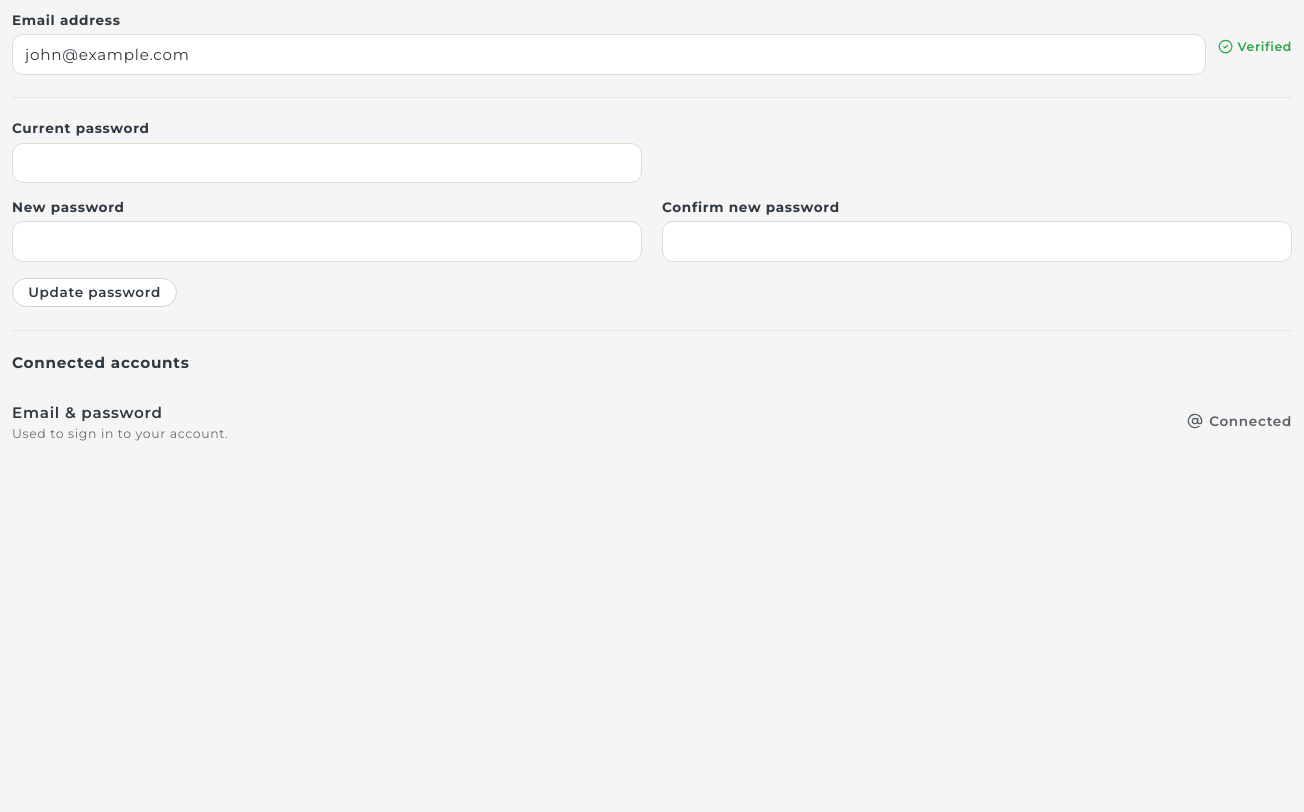
Test case: Account & Security — email change (password account) › reveals the reauth field + button only after the email is edited
The image size is (1304, 812).
Expected: the text "Update email" is not shown
Replace the text in the field labelled "Email address" with "new@example.com" at {"x": 609, "y": 54}, box [12,34,1206,75]
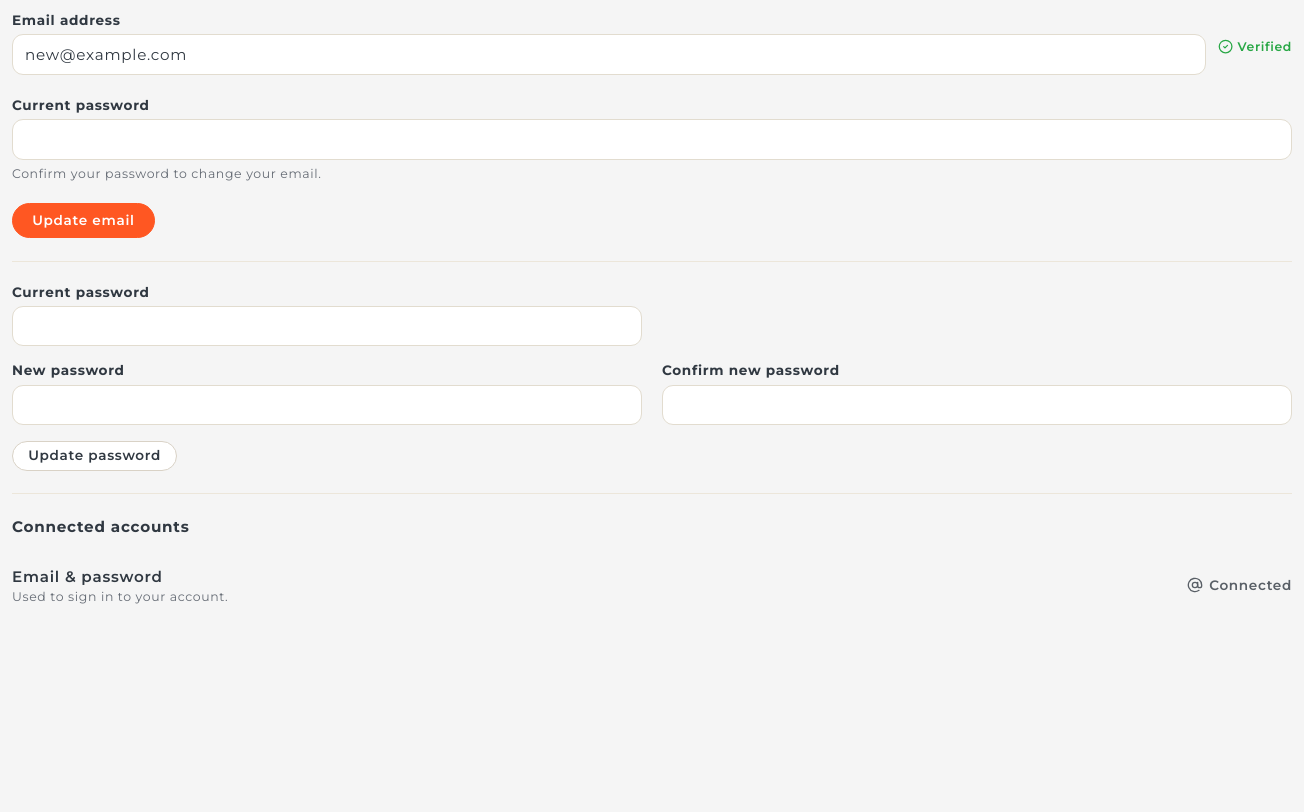
Result: the button "Update email" is shown at [12,203,155,238]
